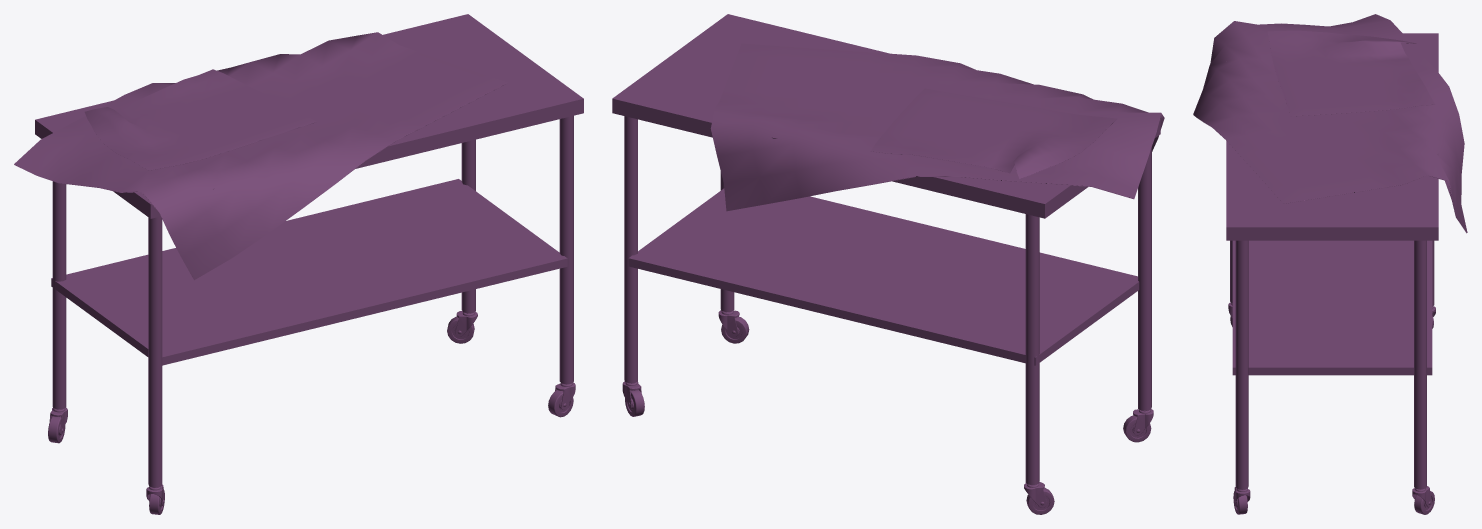
File: Table.fbx
3 views of the same model, side by side, from view 1: azimuth 30°, elevation 25°; view 2: azimuth 150°, elevation 25°; view 3: azimuth 270°, elevation 25° (orthographic). The views are drawn at different scales.
Visible parts, largest first — view 1: Furniture_Table_01:Furniture_Table_01, Furniture_Table_01:Furniture_BottomSheet_01, Furniture_Table_01:Furniture_TopSheet_01; view 2: Furniture_Table_01:Furniture_Table_01, Furniture_Table_01:Furniture_BottomSheet_01, Furniture_Table_01:Furniture_TopSheet_01; view 3: Furniture_Table_01:Furniture_Table_01, Furniture_Table_01:Furniture_BottomSheet_01, Furniture_Table_01:Furniture_TopSheet_01.
Part boxes in pixels (left/top/right/bottom): Furniture_Table_01:Furniture_Table_01: left=35, top=14, right=583, bottom=514; Furniture_Table_01:Furniture_BottomSheet_01: left=14, top=32, right=507, bottom=280; Furniture_Table_01:Furniture_TopSheet_01: left=84, top=69, right=316, bottom=170; Furniture_Table_01:Furniture_Table_01: left=612, top=14, right=1160, bottom=514; Furniture_Table_01:Furniture_BottomSheet_01: left=710, top=43, right=1164, bottom=211; Furniture_Table_01:Furniture_TopSheet_01: left=870, top=88, right=1117, bottom=179; Furniture_Table_01:Furniture_Table_01: left=1226, top=33, right=1438, bottom=514; Furniture_Table_01:Furniture_BottomSheet_01: left=1193, top=14, right=1467, bottom=233; Furniture_Table_01:Furniture_TopSheet_01: left=1267, top=30, right=1435, bottom=116.
Size of the model in its own units: 19.51 by 12.8 by 10.34.
